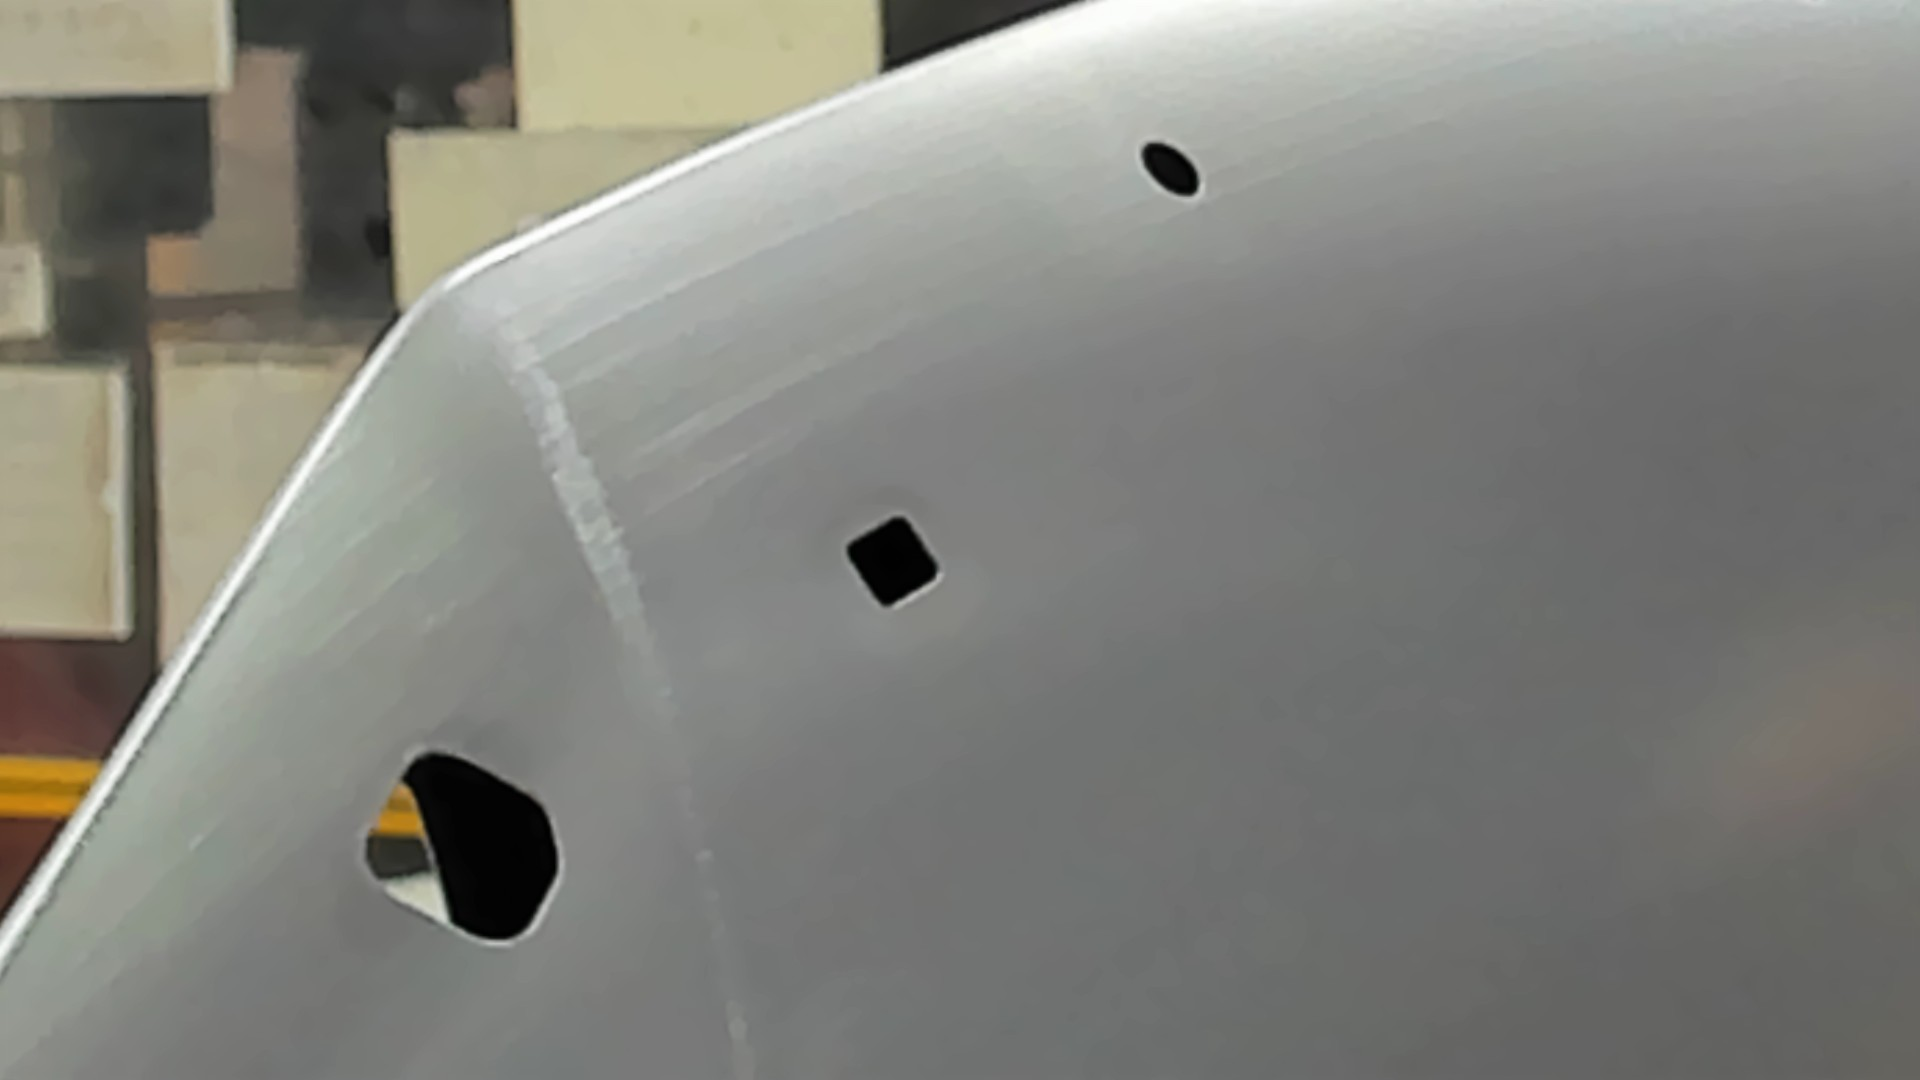chico: (1134, 133, 1207, 203)
grande: (355, 742, 568, 956)
mediano: (841, 509, 948, 615)
